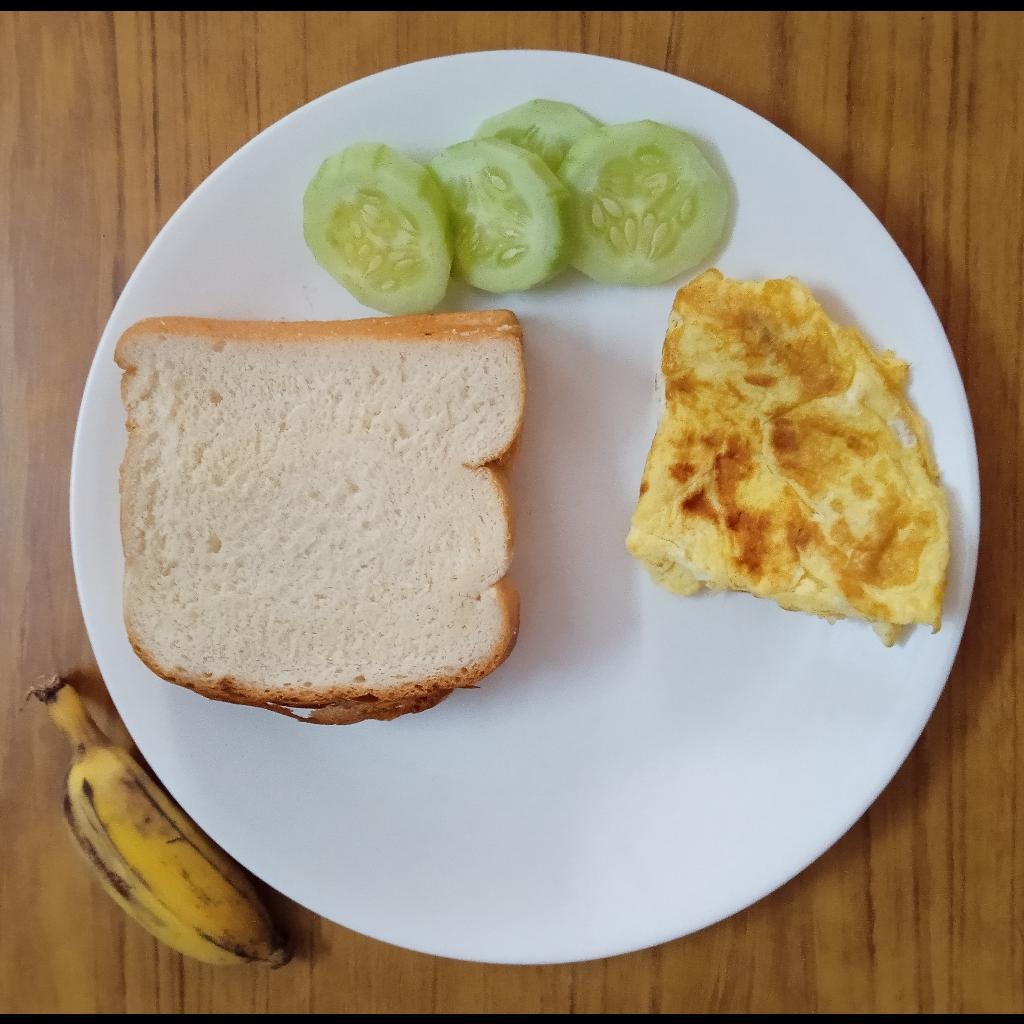banana: (28, 672, 295, 970)
bread: (114, 309, 528, 725)
cucumber: (303, 96, 728, 314)
egg-poached: (624, 267, 952, 646)
